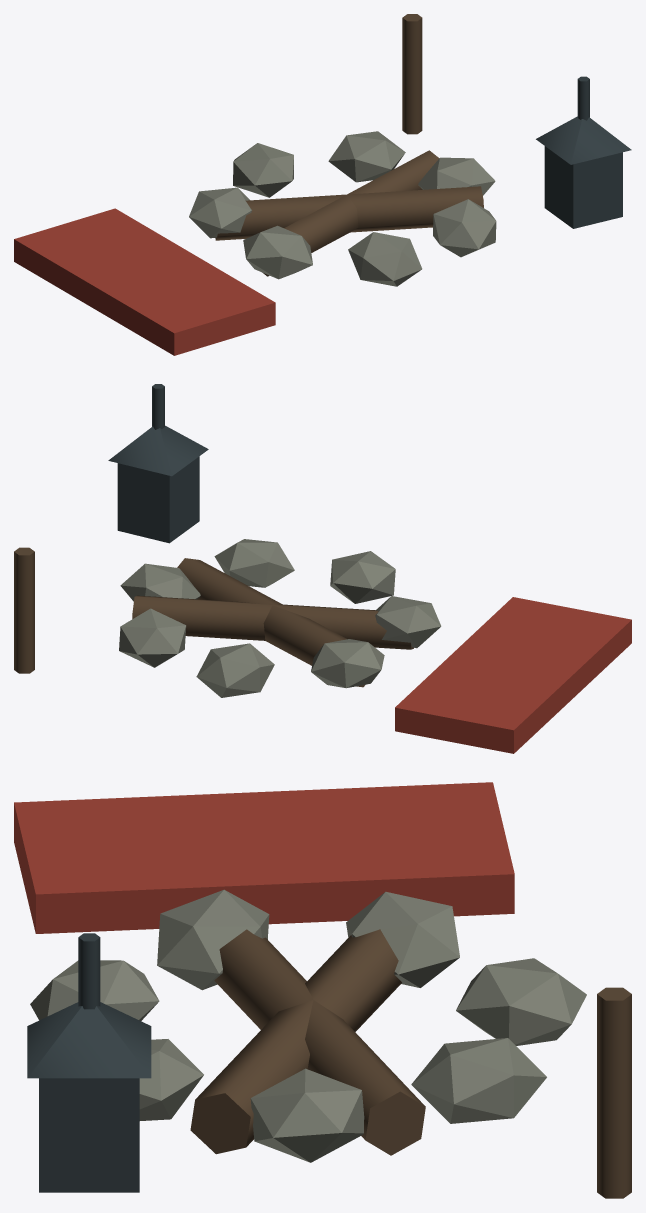
The model's file is abandoned-camp.glb.
The picture shows the model from 3 angles, top to bottom: view 1: azimuth 30°, elevation 25°; view 2: azimuth 150°, elevation 25°; view 3: azimuth 270°, elevation 25°; orthographic projection. The views are drawn at different scales.
Visible parts, largest first — view 1: abandoned-camp; view 2: abandoned-camp; view 3: abandoned-camp.
Part boxes in pixels (x1,y1,x2,y2): abandoned-camp: (14,14,631,355); abandoned-camp: (14,384,631,753); abandoned-camp: (14,782,631,1198).
Bounding box in the file's own units: 2.25 × 0.69 × 1.41.
